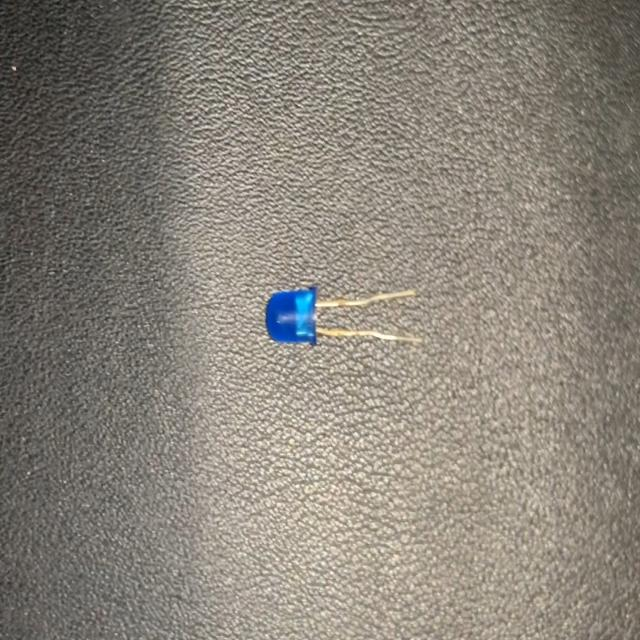LED: (262, 282, 423, 352)
